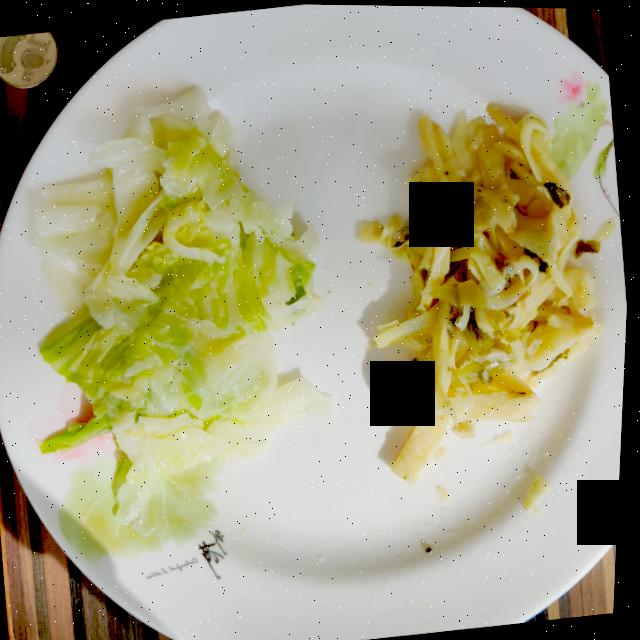cabbage: (35, 86, 336, 532)
coin: (0, 31, 58, 88)
